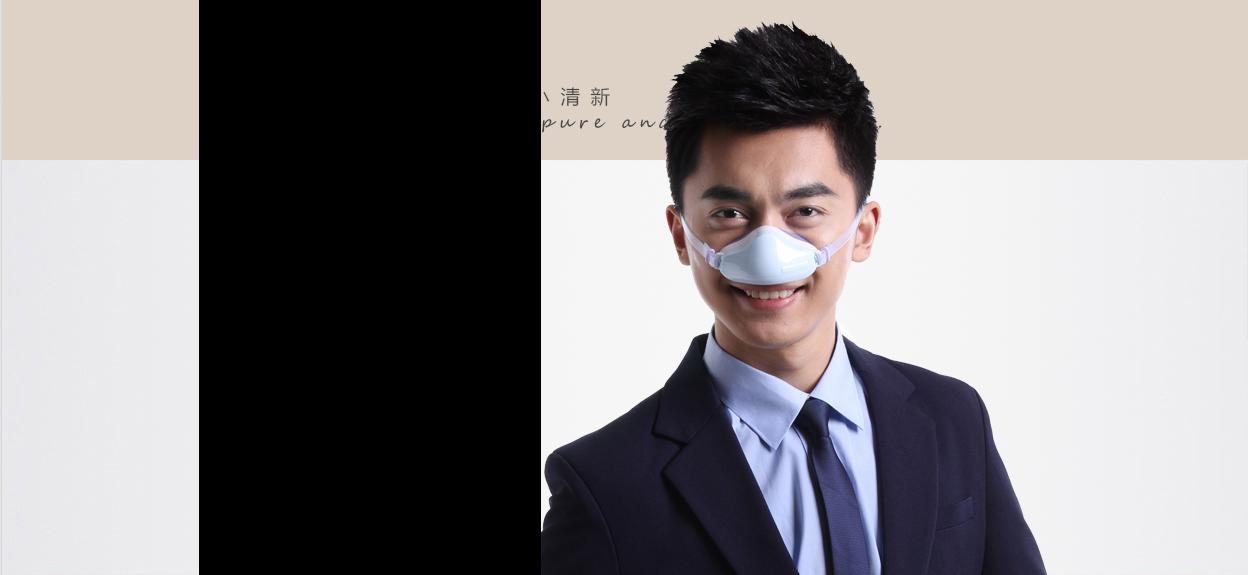WRONG: (681, 174, 854, 347)
